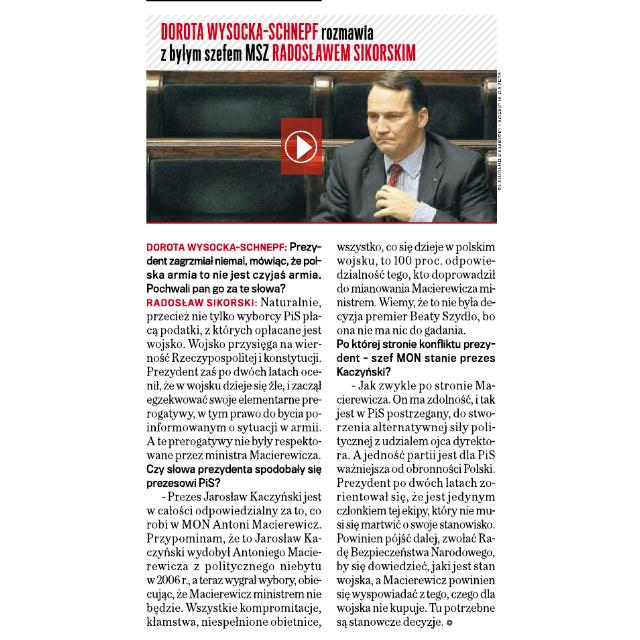body: (142, 238, 326, 630), (331, 238, 501, 630)
image: (143, 67, 499, 227)
title: (156, 15, 427, 65)
